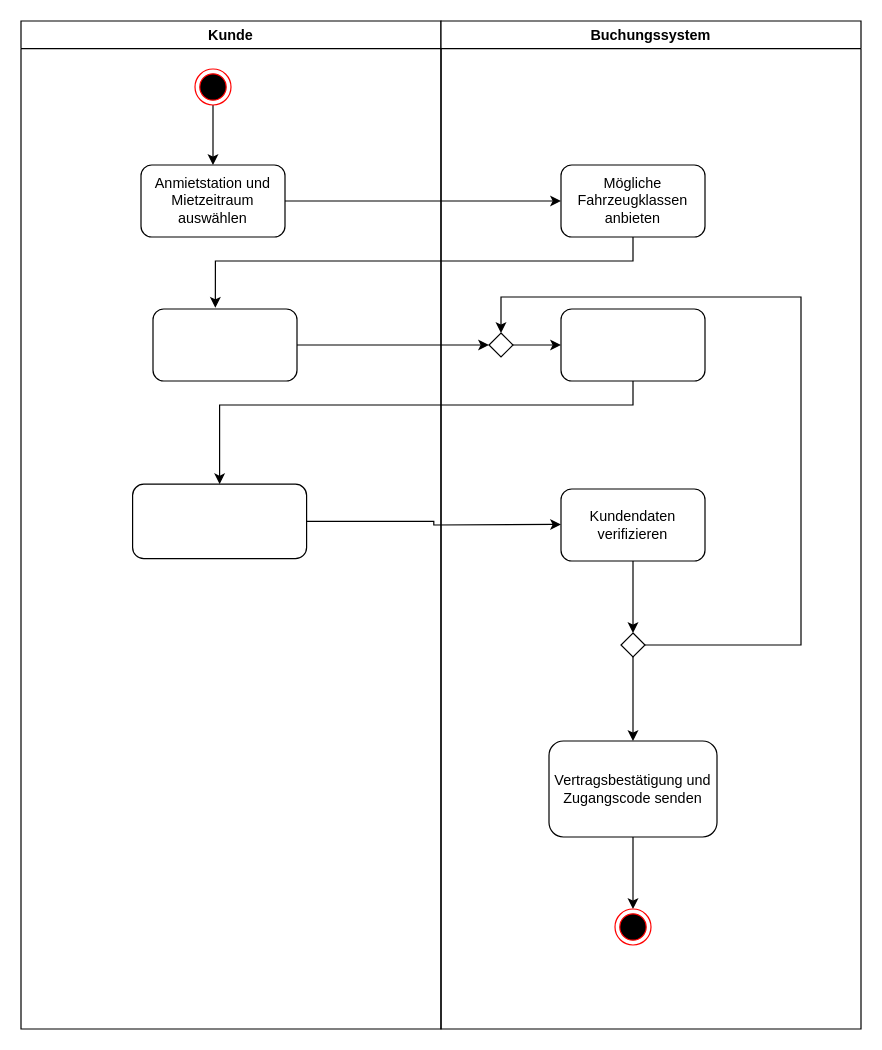
This 882x1050 diagram has some shape labels left out. Here are the shapes that lost their labels. From the top down, the box of each, then its label:
(152, 308, 297, 381): Fahrzeugklasse auswählen
(560, 308, 705, 381): Weitere Vertragsdaten anfordern
(131, 483, 307, 559): Vertragsdaten eingeben und senden
